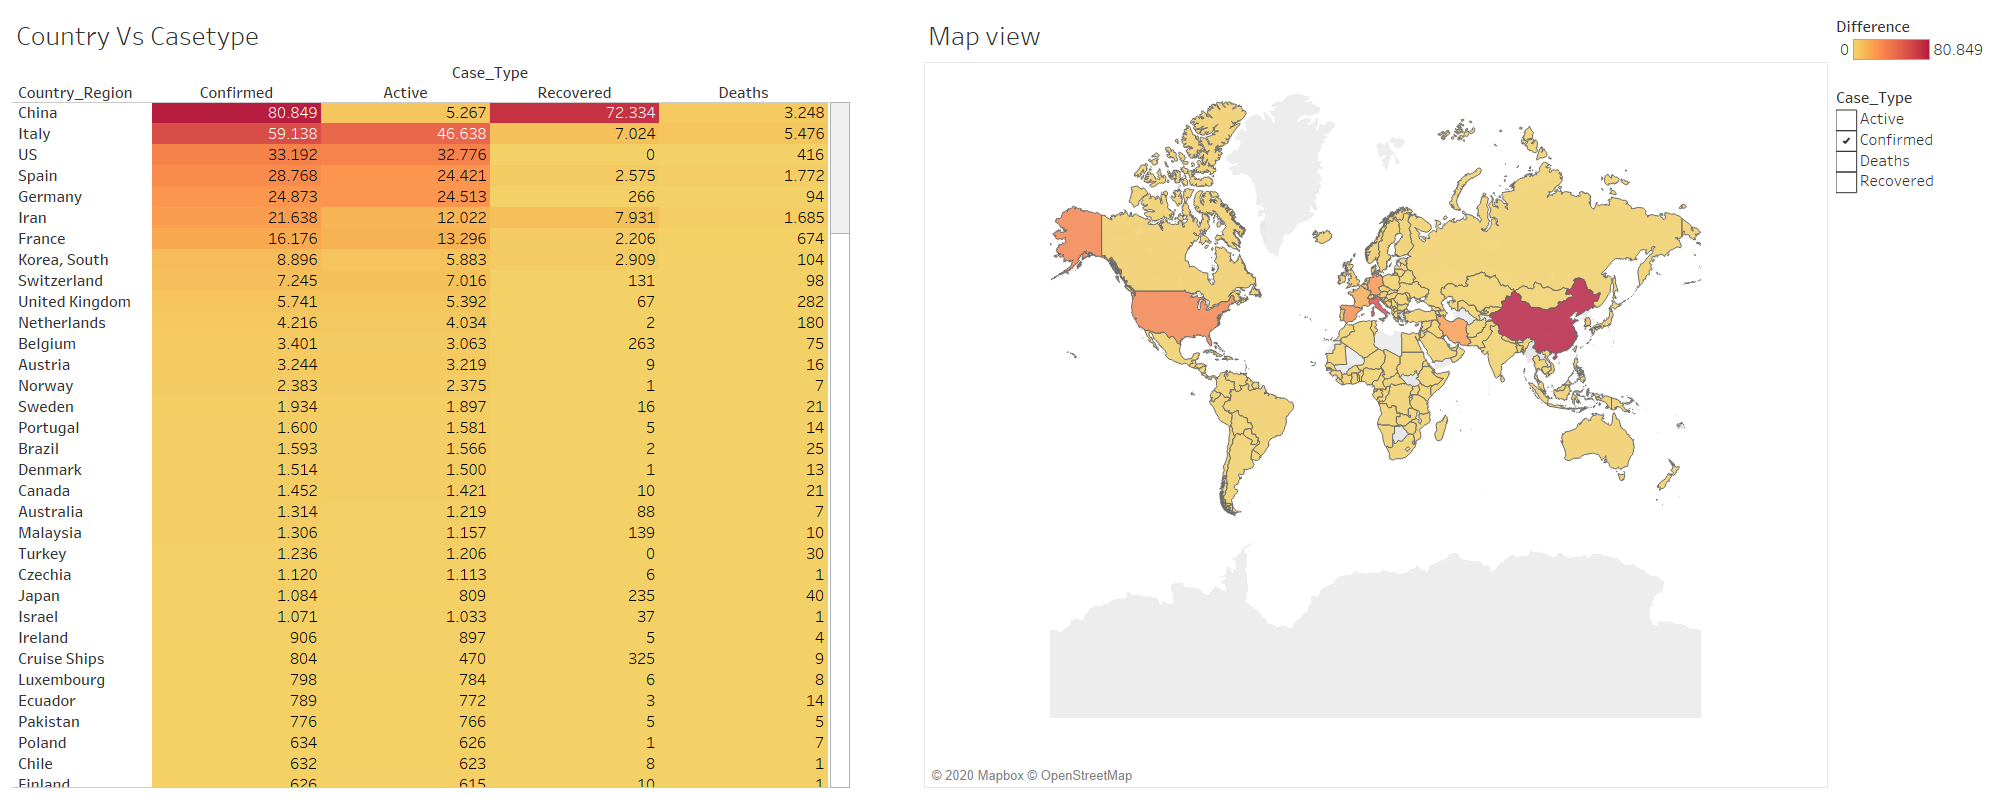

What the dashboard file says about the page in this screenshot:
{"tool":"tableau","page":{"name":"Covid-19 Study-2","canvas":[2000,800],"ordinal":1},"visuals":[{"type":"worksheet","title":"Country Vs Casetype","mark":"Square","rows":["Country_Region"],"cols":["Case_Type"],"box":[8,8,912,784]},{"type":"worksheet","title":"Map view","mark":"Automatic","box":[920,8,912,784]},{"type":"legend","title":"Country Vs Casetype","param":"[federated.01498jj1rmv20s1eluj240v63iod].[sum:Difference:qk]","box":[1832,8,160,73]},{"type":"filter","title":"Map view","param":"[federated.01498jj1rmv20s1eluj240v63iod].[none:Case_Type:nk]","box":[1832,81,160,151]}]}

Visuals, with their boxes in screenshot pixels (x1, y1, x2, y2), scaled from the page's 2000x800 canvas onto the 2000x800 screenshot:
"Country Vs Casetype" worksheet (Square marks): [8,8,920,792]
"Map view" worksheet: [920,8,1832,792]
"Country Vs Casetype" legend: [1832,8,1992,81]
"Map view" filter: [1832,81,1992,232]
